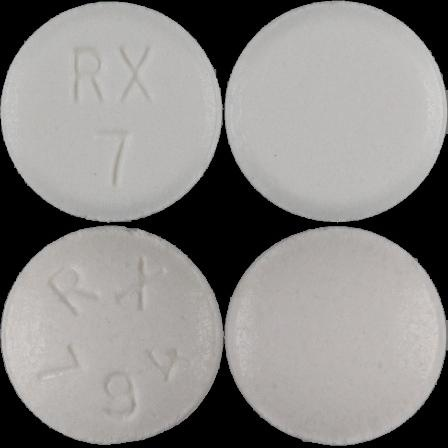63304-772: (0, 0, 224, 224)
